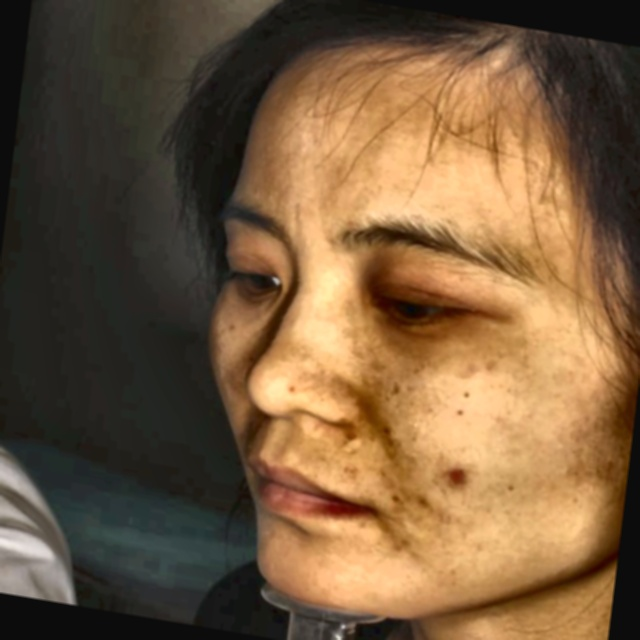comedone: (441, 458, 476, 494)
